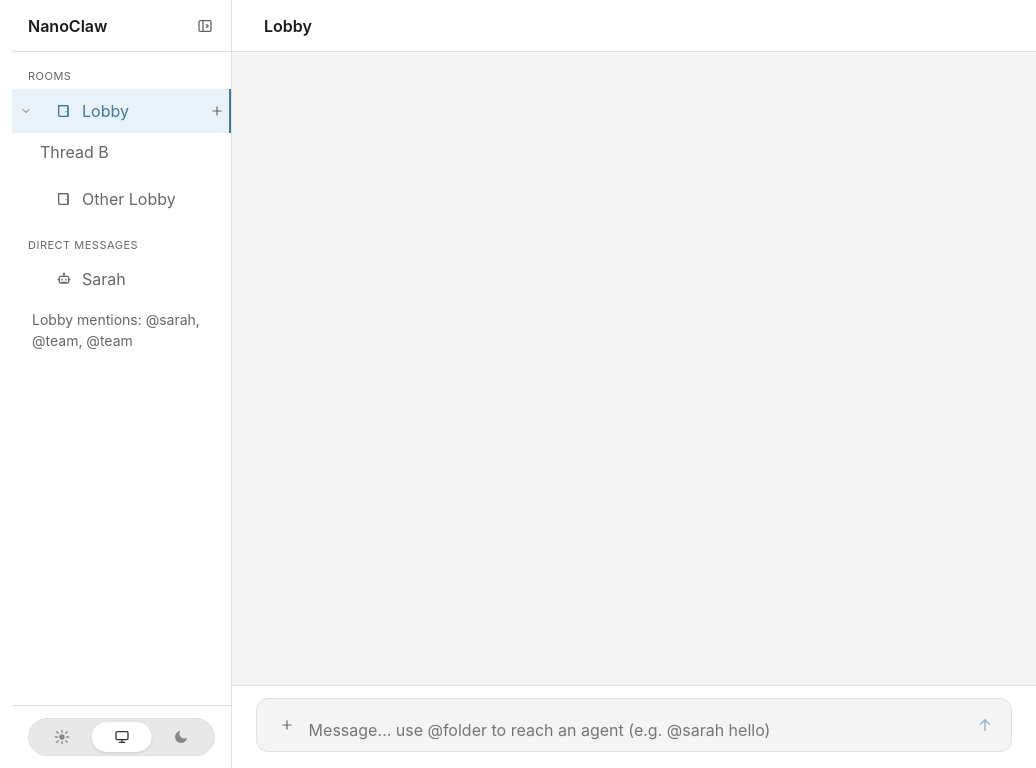
Test: App › switches threads within the current room
Click the button "Thread B".
click(96, 152)  # box [12,132,181,170]
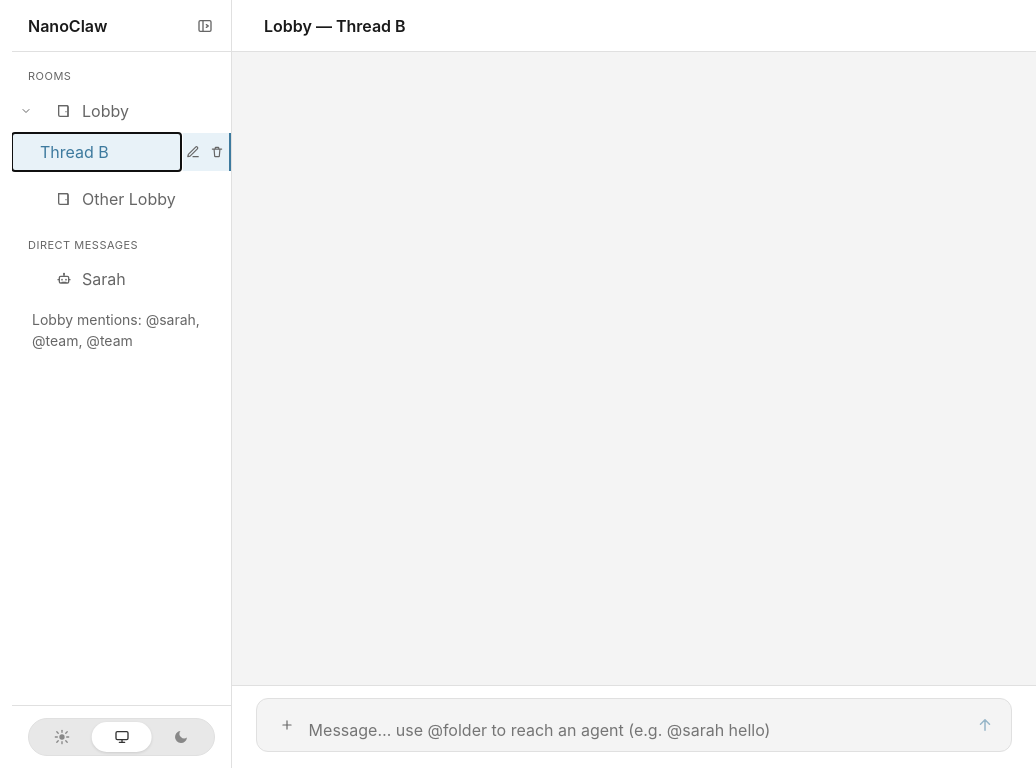
Check: the heading "Lobby — Thread B" is shown, box [264,14,406,38]
